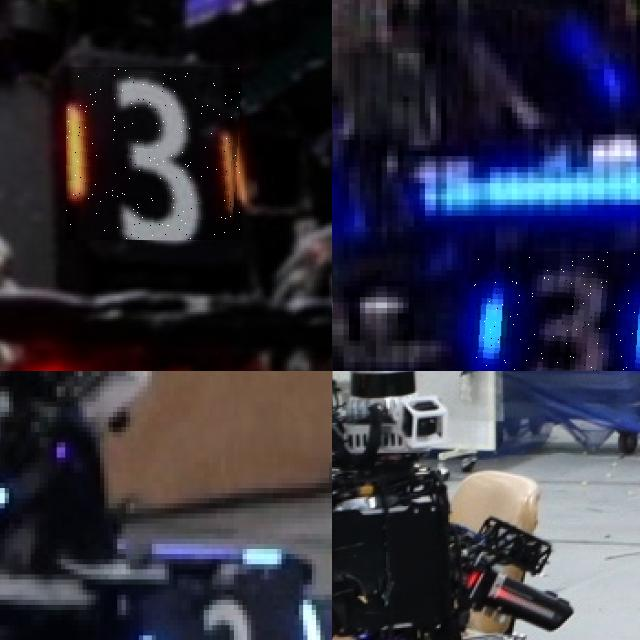B3: (471, 251, 640, 371), (130, 589, 324, 640)
R3: (66, 67, 242, 240)
